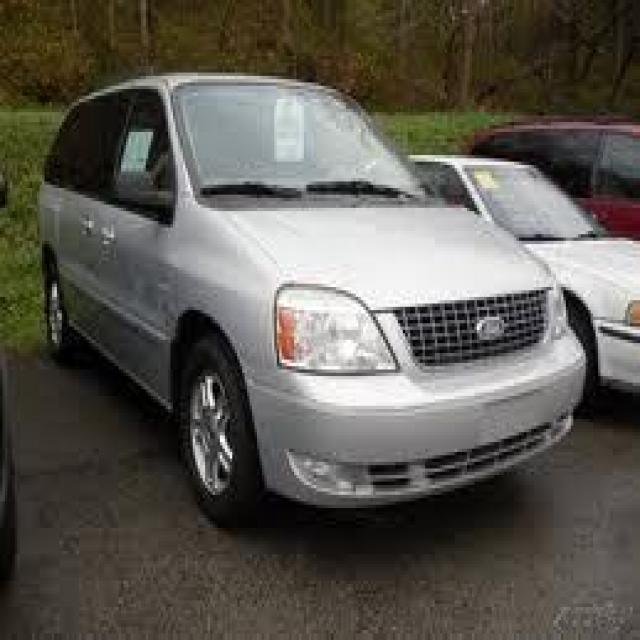car: (35, 72, 593, 544)
